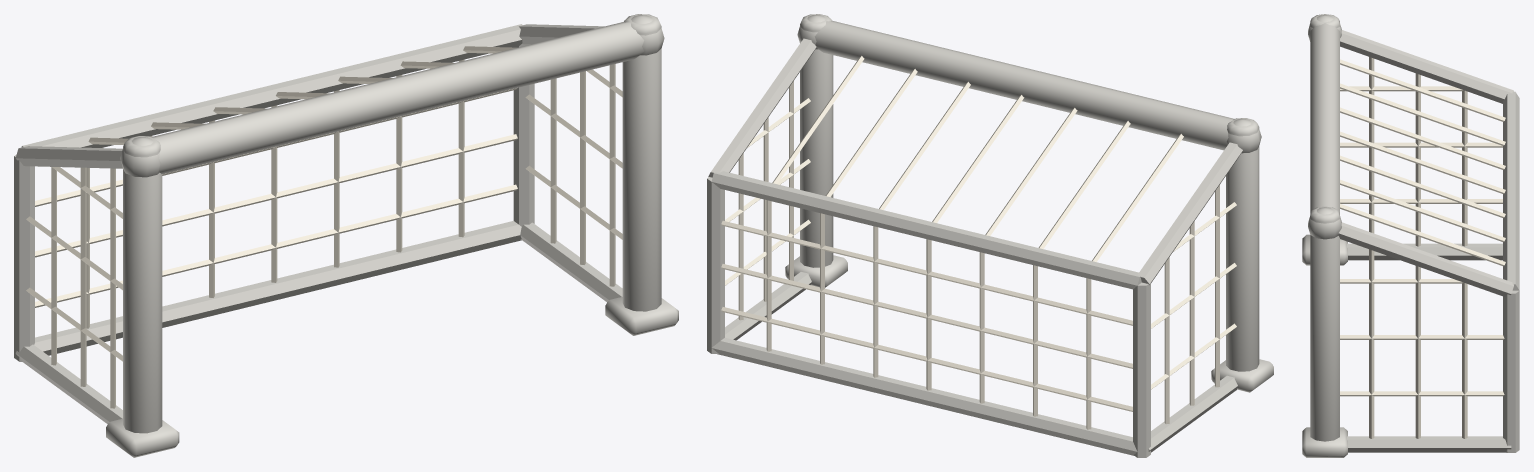
File: toy_goal.glb
The picture shows the model from 3 angles, left to right: view 1: azimuth 30°, elevation 25°; view 2: azimuth 150°, elevation 25°; view 3: azimuth 270°, elevation 25°; orthographic projection. The views are drawn at different scales.
Parts seen in each view (by area): view 1: Frame, Net; view 2: Frame, Net; view 3: Frame, Net.
Part boxes in pixels (bbox=[...]): Frame: bbox=[14, 14, 678, 457]; Net: bbox=[26, 46, 622, 408]; Frame: bbox=[707, 14, 1273, 457]; Net: bbox=[721, 56, 1236, 429]; Frame: bbox=[1302, 14, 1519, 457]; Net: bbox=[1340, 57, 1505, 438].
Size of the model in its own units: 2.42 by 1.29 by 1.05.
